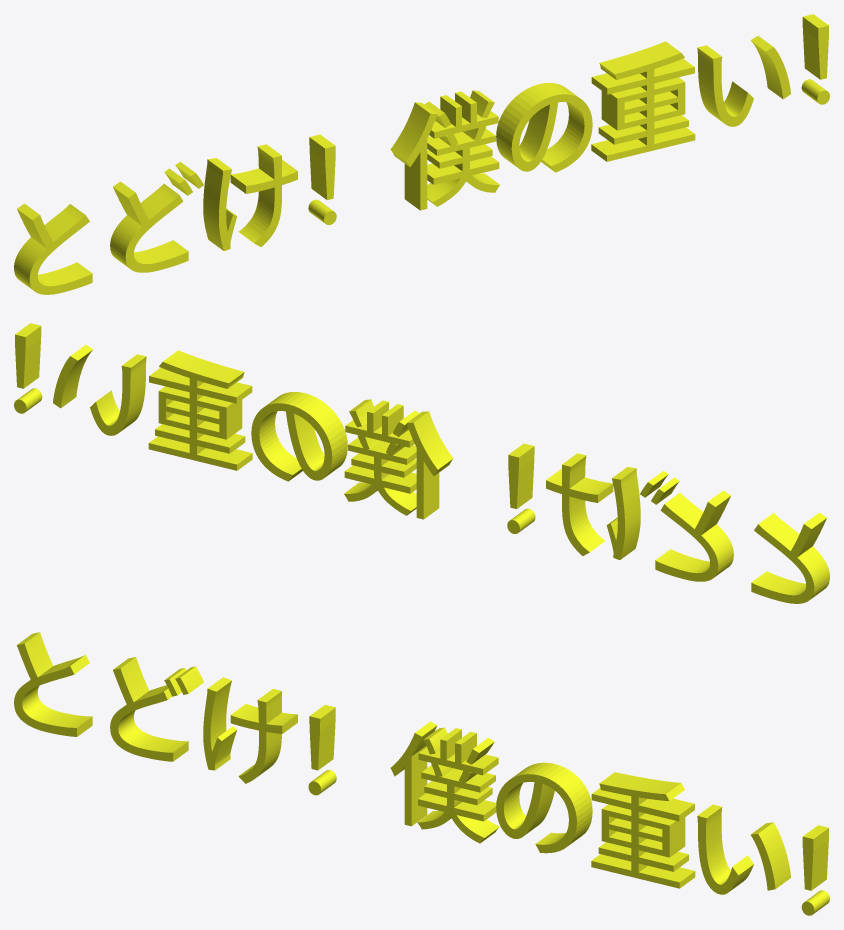
The model's file is Title.obj.
3 views of the same model, one above another, from view 1: azimuth 30°, elevation 25°; view 2: azimuth 150°, elevation 25°; view 3: azimuth 330°, elevation 25° (orthographic).
Parts seen in each view (by area): view 1: テキスト; view 2: テキスト; view 3: テキスト.
Part boxes in pixels (<box>): テキスト: <box>14,14,829,294</box>; テキスト: <box>14,323,829,603</box>; テキスト: <box>14,632,829,915</box>.
Bounding box in the file's own units: 8.11 × 0.92 × 0.2741.
1 material, 1 textured.
